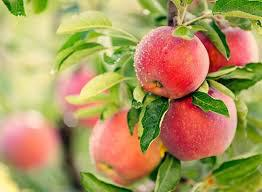apple: (171, 95, 233, 156), (140, 30, 200, 88), (209, 28, 255, 79), (84, 102, 143, 135)
